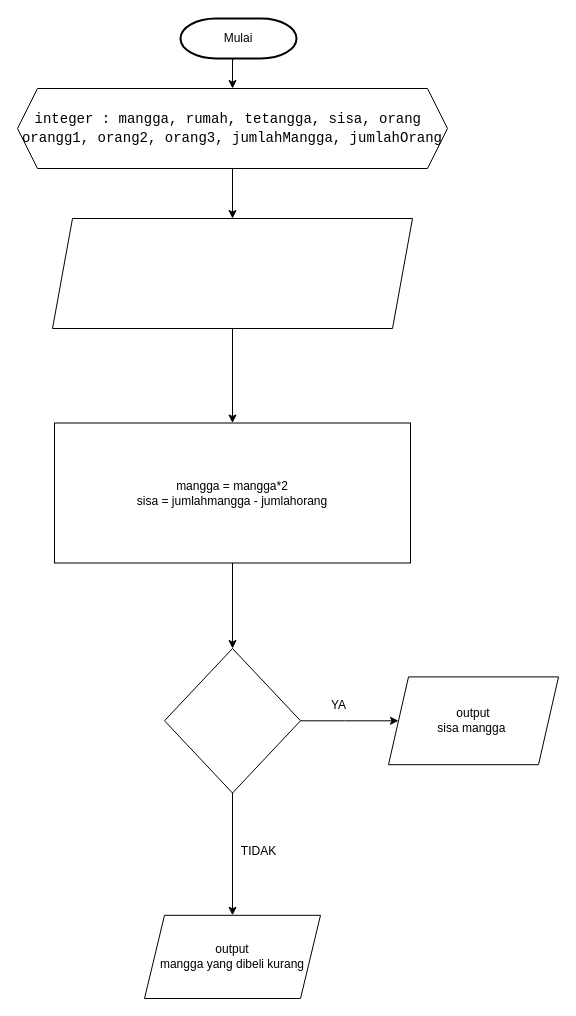
The diagram is 576 pixels wide and 1016 high, and some of its shapes have lost their labels. The centre of each missing label's shape, as x and y in pixels:
INPUT : mangga, orang1, orang2, orang3,: [232,273]
sisa >= 0: [232,720]
